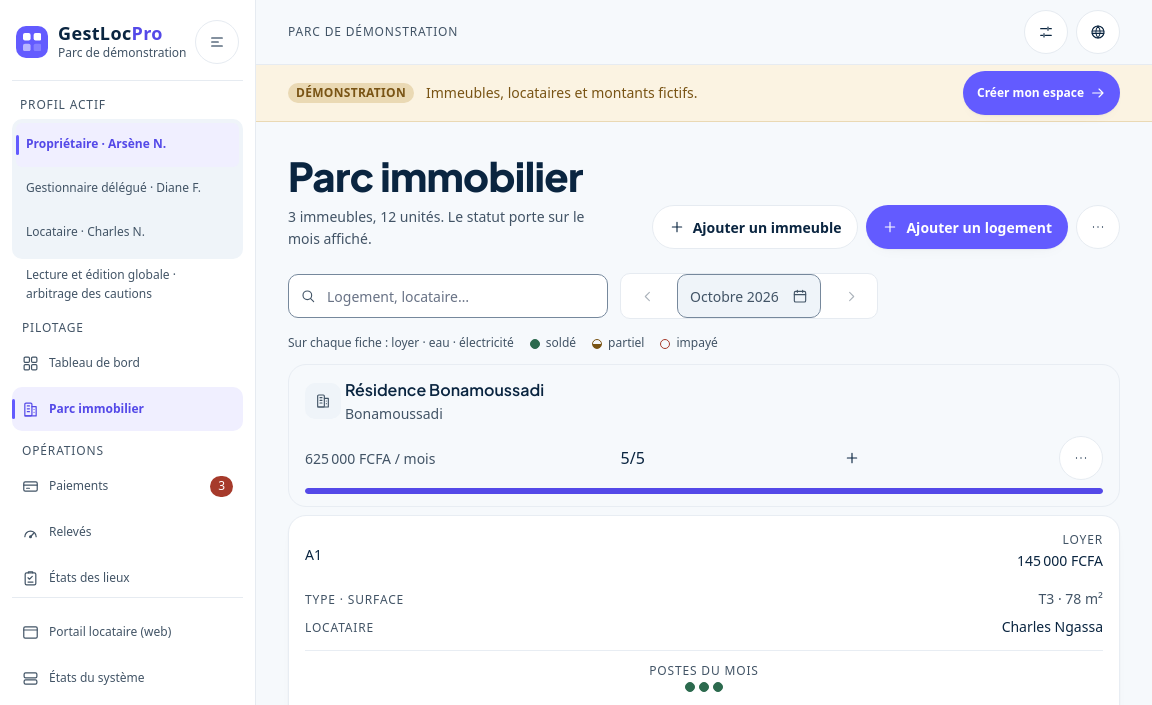
Scenario: le parc sur un téléphone › garde son en-tête et ses gestes sur un immeuble SANS logement
This screenshot has width=1152, height=705.
Click the button "Ajouter un immeuble" at x=755, y=227, box top-left (652, 205), bottom-right (858, 249)
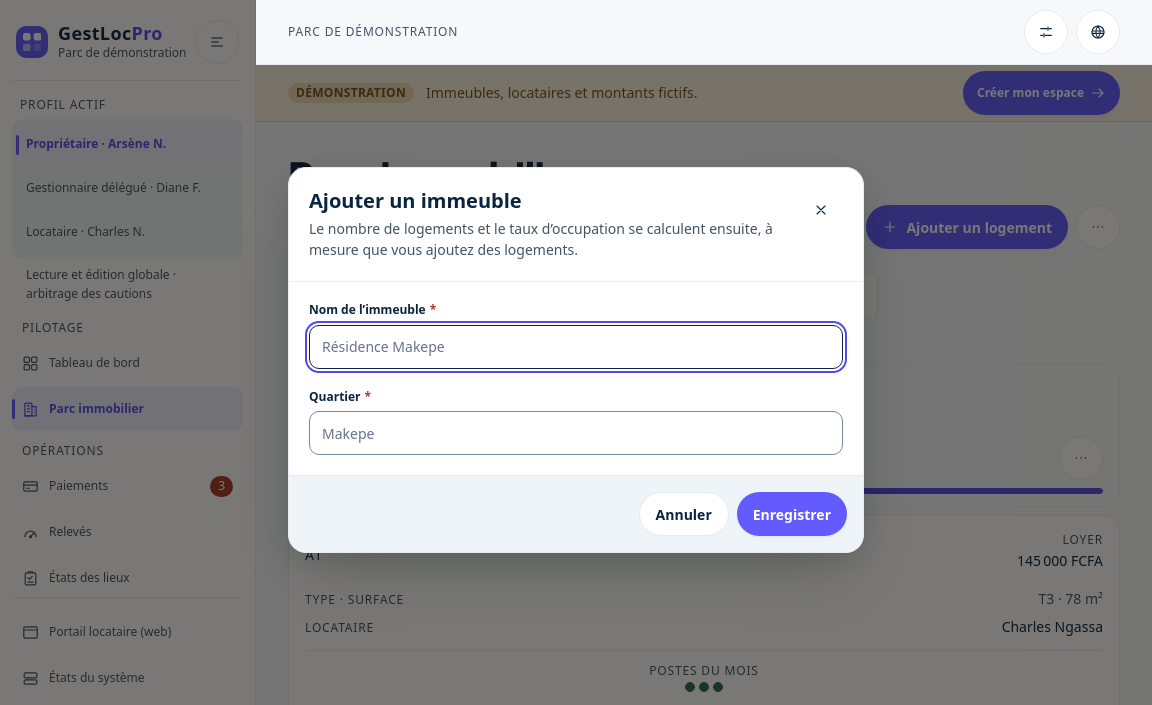
Type "Villa Ravisée" into the field labelled "Nom de l’immeuble*" at x=576, y=347, box top-left (309, 325), bottom-right (843, 369)
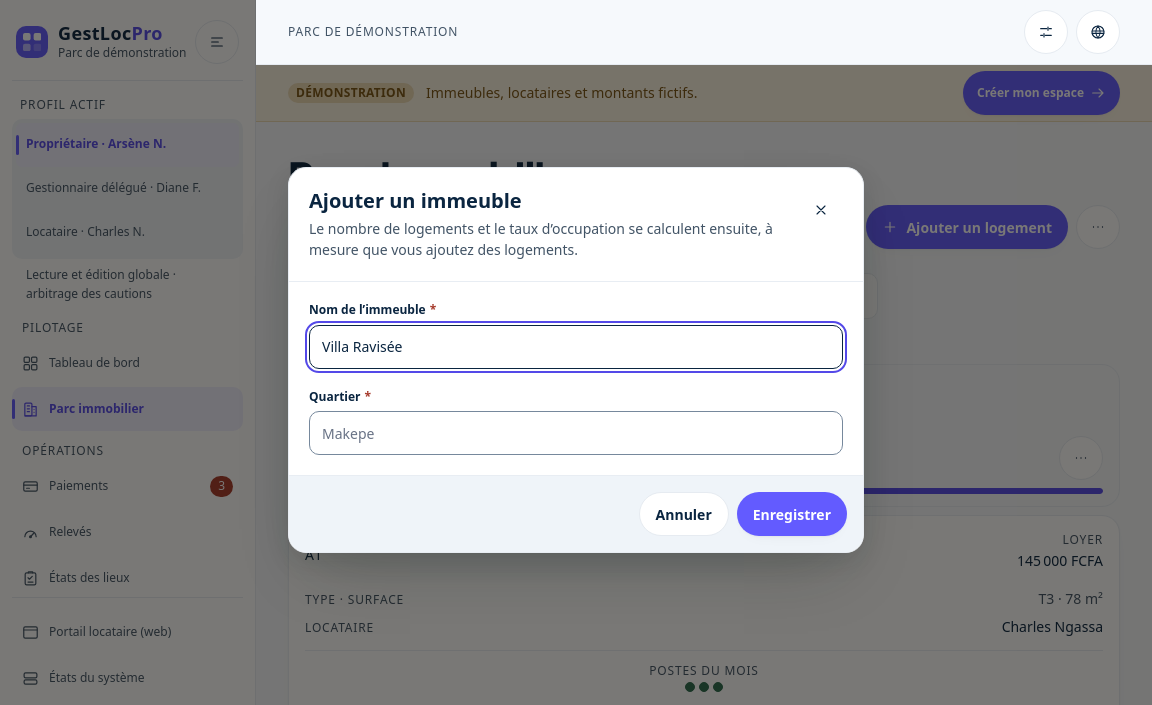
Type "Bastos" into the field labelled "Quartier*" at x=576, y=434, box top-left (309, 412), bottom-right (843, 456)
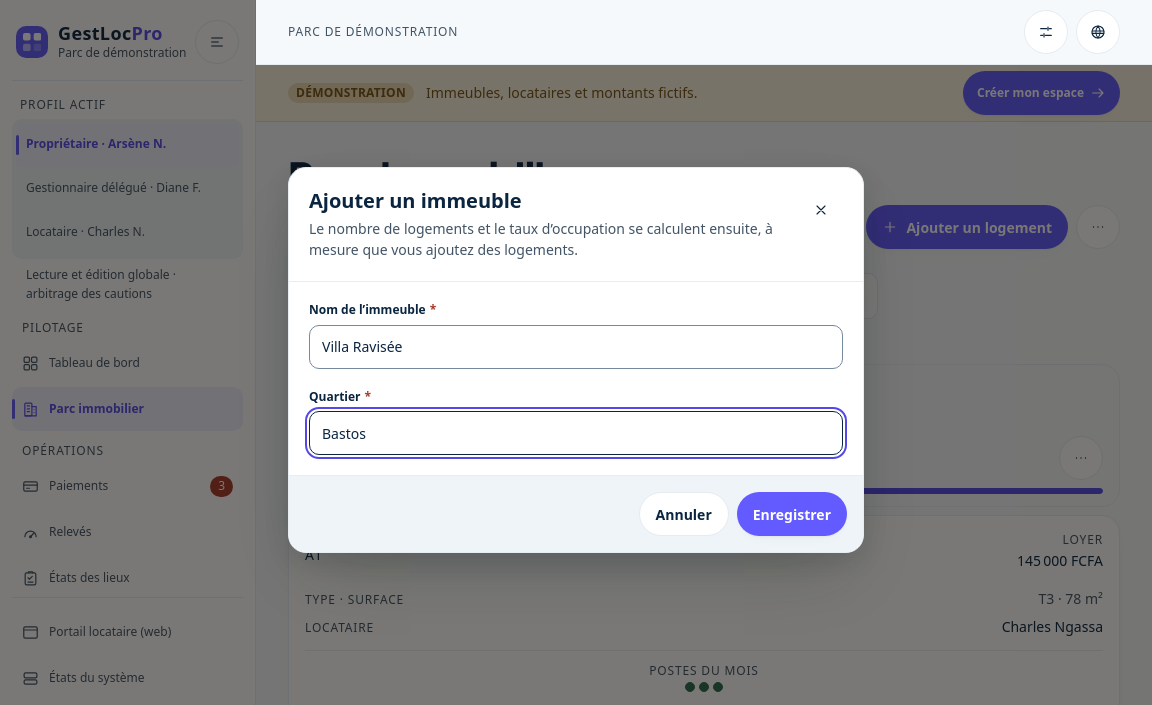
Click the button "Enregistrer" at x=792, y=514, box top-left (737, 492), bottom-right (847, 536)
(page scrolled)
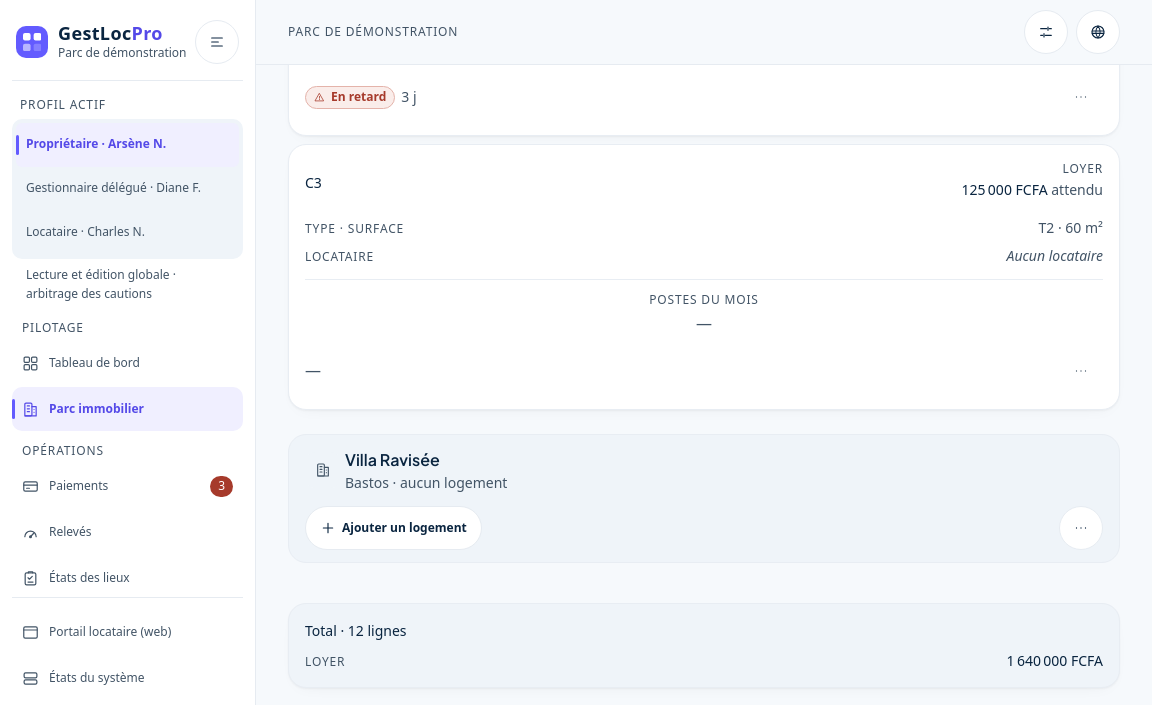
Expected: the element showing "Villa Ravisée Bastos · aucun logement Ajouter un logement" is shown, top-left (288, 434), bottom-right (1120, 563)
Expected: the button with aria-label "Ajouter un logement à Villa Ravisée" is shown, top-left (305, 506), bottom-right (482, 550)
Click the button named "Actions de l’immeuble Villa Ravisée" at x=1081, y=528, box top-left (1059, 506), bottom-right (1103, 550)
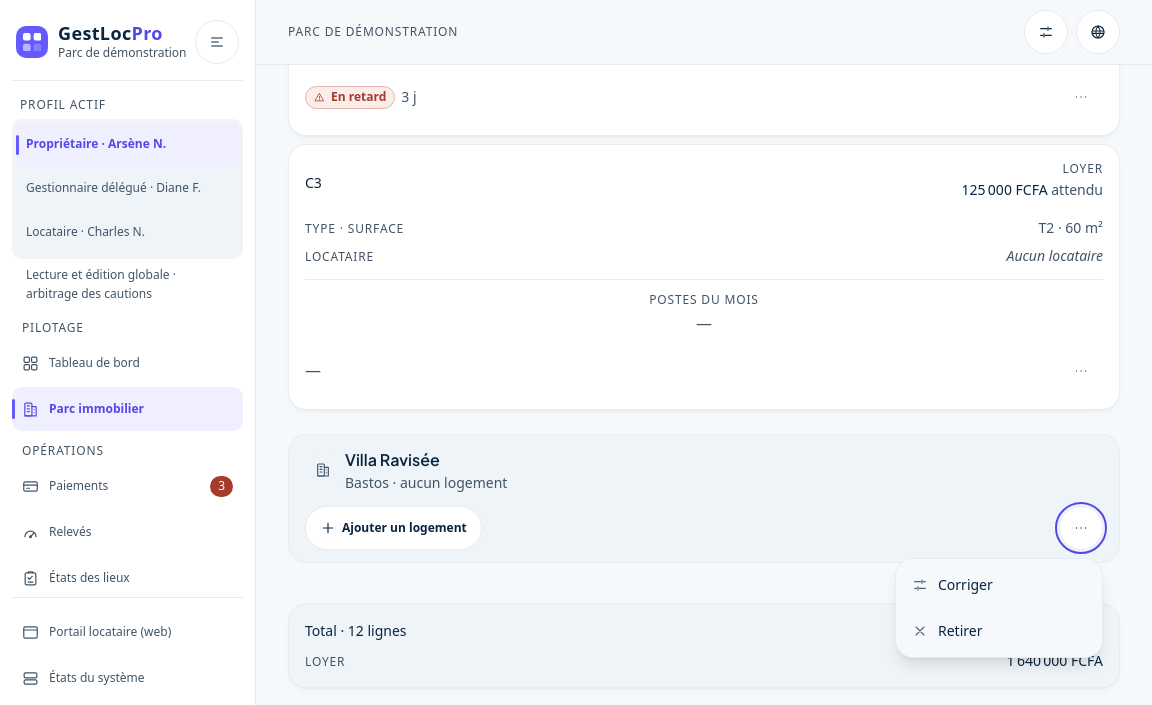
Expected: the menu item with aria-label "Supprimer l’immeuble Villa Ravisée" is shown, top-left (900, 609), bottom-right (1098, 653)
